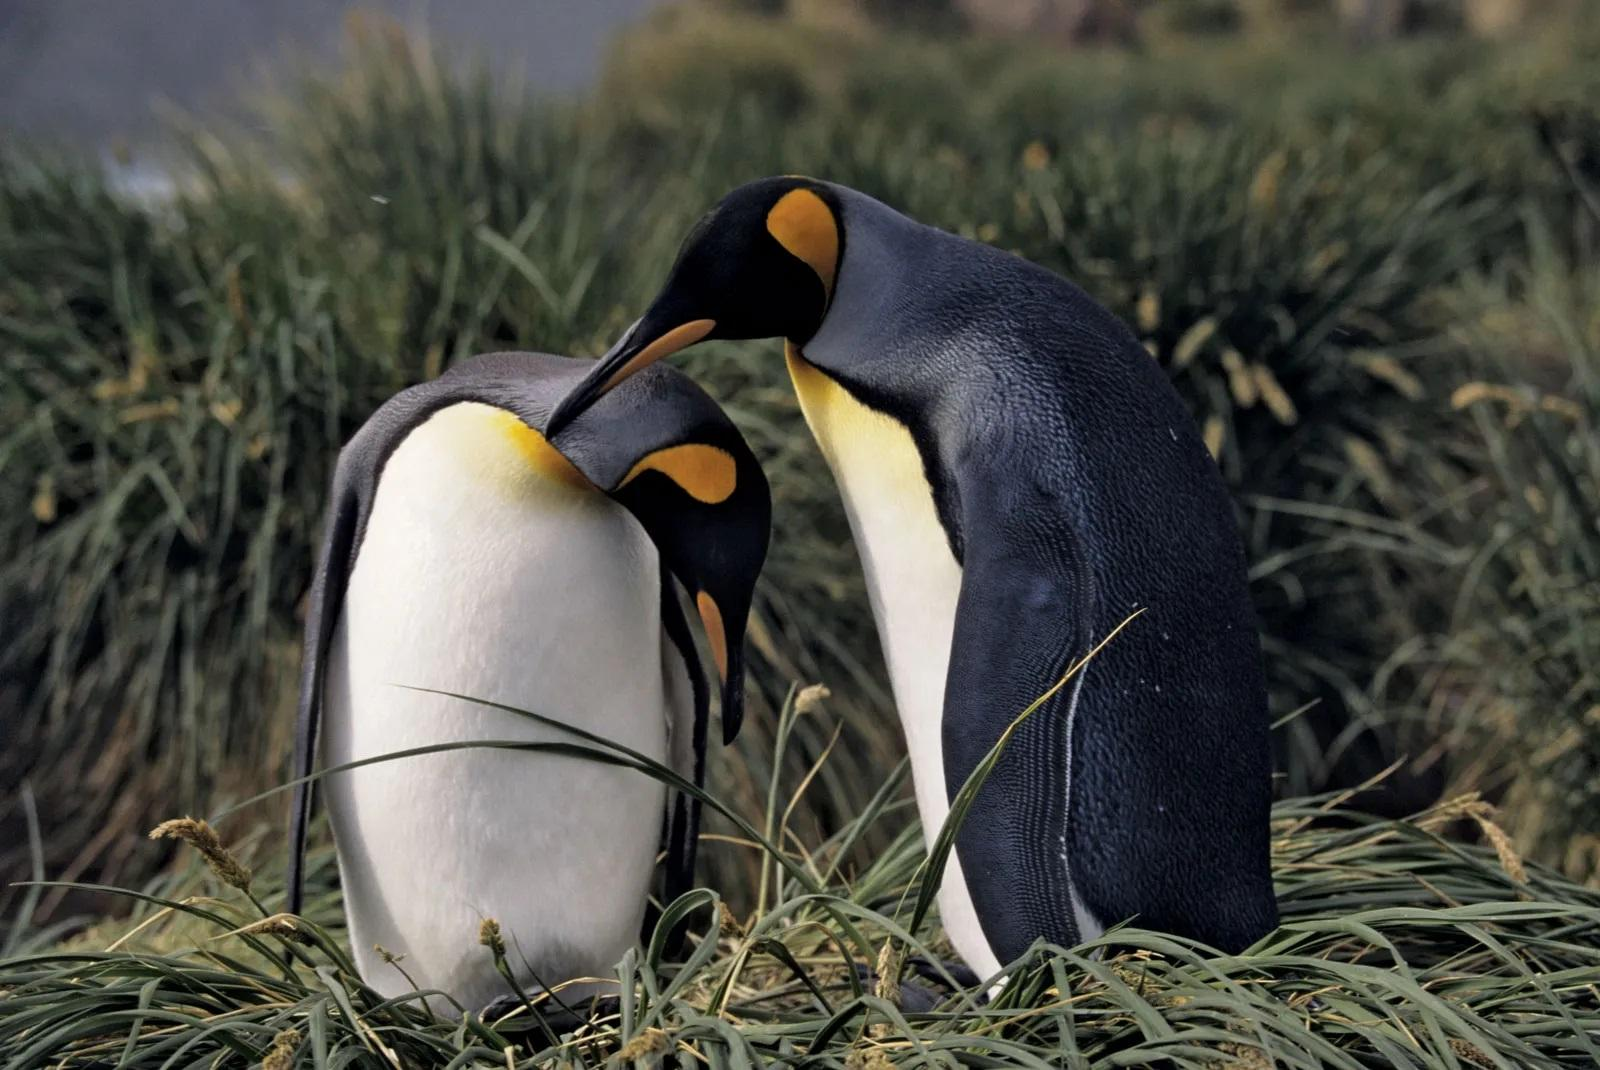king: (559, 130, 1367, 1050), (294, 285, 839, 1034)
